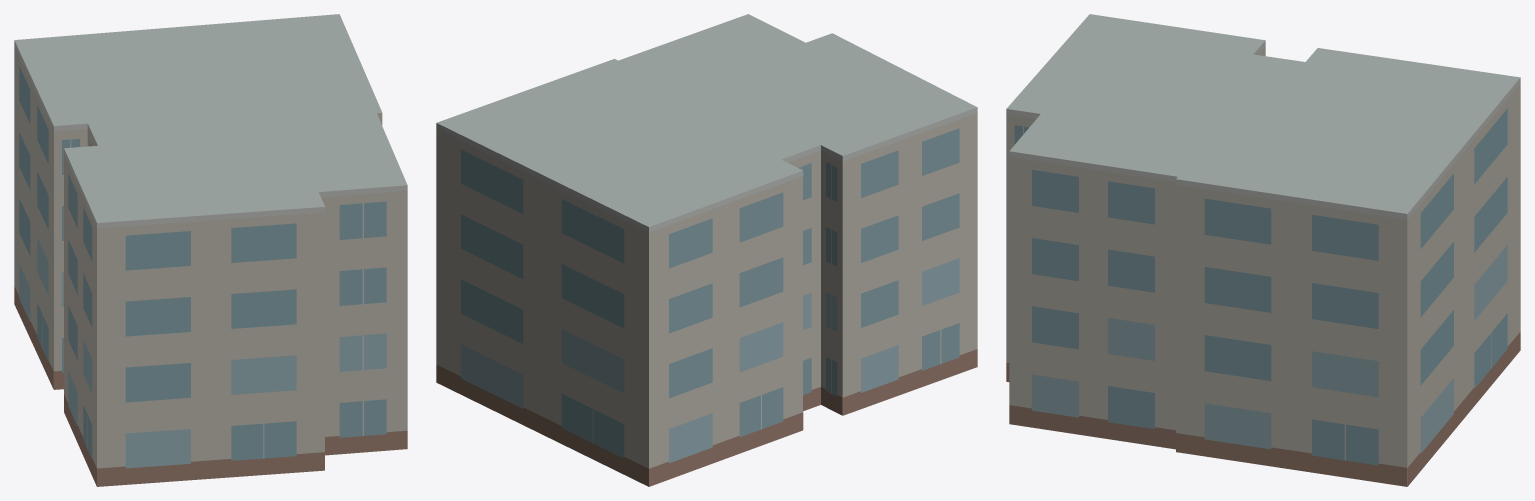
File: survey-upis-32677685.glb
3 renders of one model, left to right at view 1: azimuth 30°, elevation 25°; view 2: azimuth 150°, elevation 25°; view 3: azimuth 270°, elevation 25°, orthographic. The views are drawn at different scales.
Parts seen in each view (by area): view 1: survey-upis-32677685.tmp; view 2: survey-upis-32677685.tmp; view 3: survey-upis-32677685.tmp.
Part boxes in pixels (x1,y1,x2,y2): survey-upis-32677685.tmp: (14,14,407,486); survey-upis-32677685.tmp: (436,14,977,486); survey-upis-32677685.tmp: (1006,14,1520,486).
Bounding box in the file's own units: 18.54 × 11.79 × 20.14.
